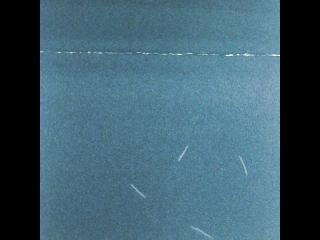crack: (38, 37, 280, 71)
scratch: (231, 148, 258, 183), (123, 180, 154, 205), (185, 221, 219, 240), (172, 139, 195, 167)
